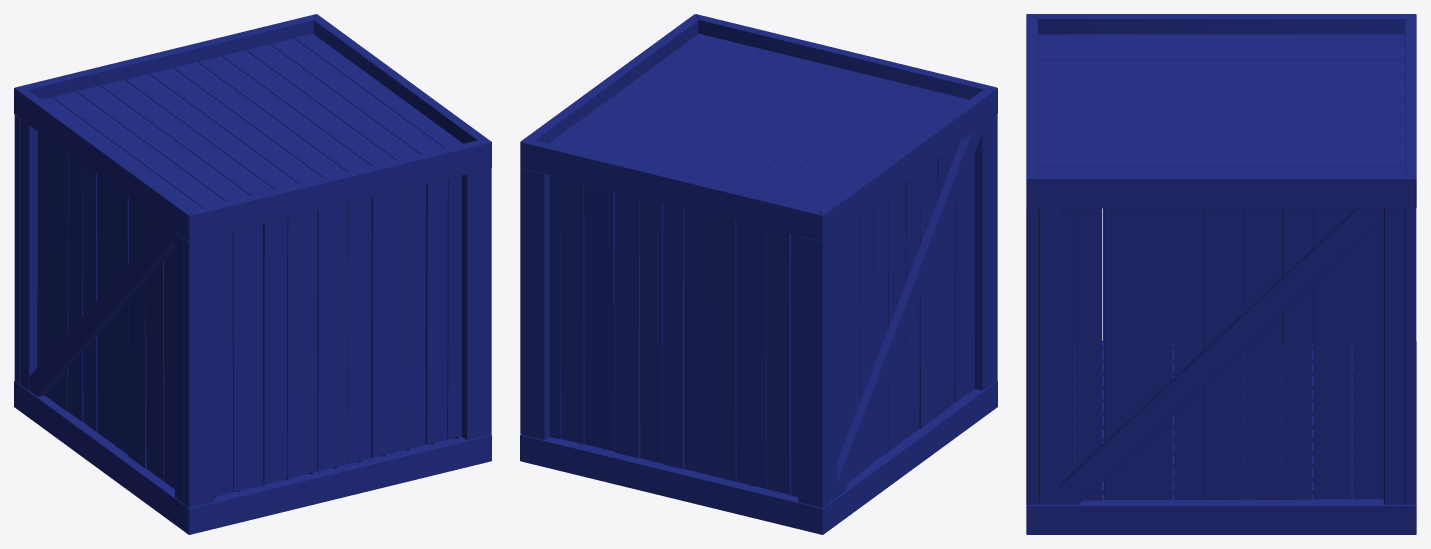
Rendered from exper.FBX.
3 views of the same model, side by side, from view 1: azimuth 30°, elevation 25°; view 2: azimuth 150°, elevation 25°; view 3: azimuth 270°, elevation 25° (orthographic). The views are drawn at different scales.
Parts seen in each view (by area): view 1: Floor_Object009, Floor_Object007, Group001, Floor_Object008, Rectangle007, Rectangle004, Rectangle005; view 2: Floor_Object010, Group001, Floor_Object007, Floor_Object008, Rectangle007, Rectangle005; view 3: Floor_Object011, Floor_Object007, Group001, Rectangle007, Rectangle005, Floor_Object012, Floor_Object008.
Part boxes in pixels (x1=…): Floor_Object009: x1=213, y1=175, x2=461, y2=496; Floor_Object007: x1=42, y1=34, x2=462, y2=209; Group001: x1=14, y1=14, x2=491, y2=534; Floor_Object008: x1=37, y1=131, x2=174, y2=489; Rectangle007: x1=14, y1=114, x2=491, y2=507; Rectangle004: x1=189, y1=435, x2=491, y2=534; Rectangle005: x1=313, y1=14, x2=491, y2=167; Floor_Object010: x1=550, y1=175, x2=798, y2=496; Group001: x1=520, y1=14, x2=997, y2=534; Floor_Object007: x1=549, y1=33, x2=969, y2=209; Floor_Object008: x1=837, y1=141, x2=974, y2=481; Rectangle007: x1=520, y1=114, x2=997, y2=507; Rectangle005: x1=520, y1=14, x2=698, y2=143; Floor_Object011: x1=1038, y1=208, x2=1383, y2=500; Floor_Object007: x1=1038, y1=34, x2=1404, y2=173; Group001: x1=1026, y1=14, x2=1416, y2=534; Rectangle007: x1=1026, y1=208, x2=1416, y2=504; Rectangle005: x1=1026, y1=174, x2=1415, y2=208; Floor_Object012: x1=1038, y1=345, x2=1383, y2=500; Floor_Object008: x1=1075, y1=208, x2=1352, y2=347.
Bounding box in the file's own units: 33.45 × 33.7 × 33.44.
